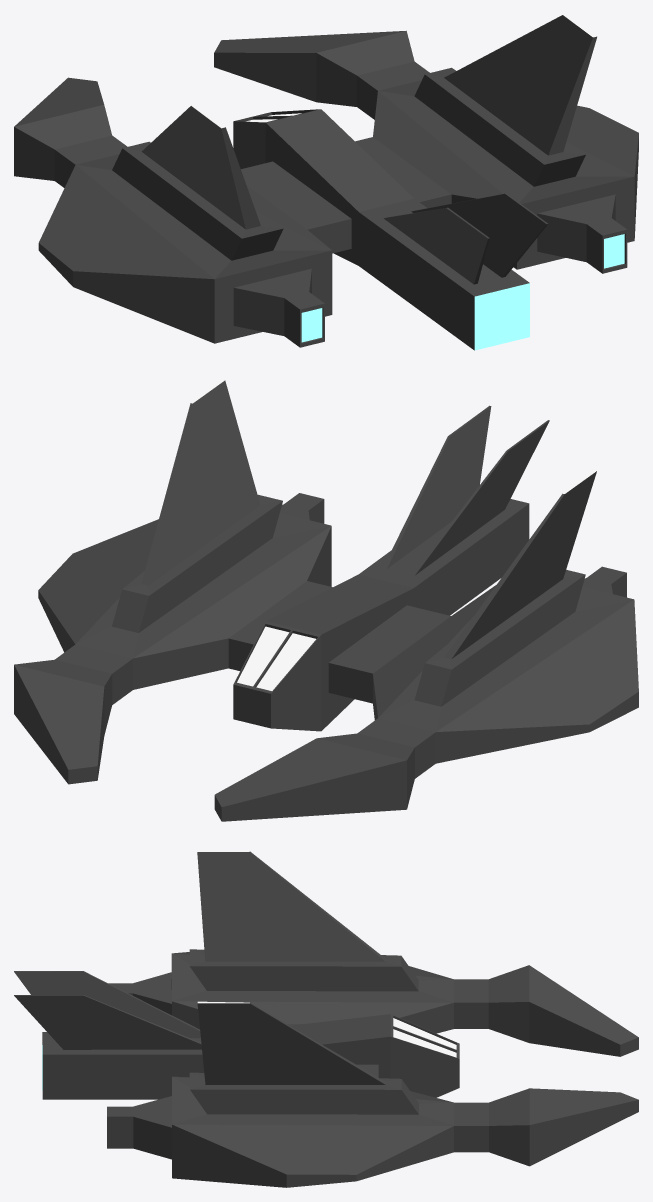
Rendered from radical_spaceship_2-1dd24561.glb.
3 views of the same model, one above another, from view 1: azimuth 30°, elevation 25°; view 2: azimuth 150°, elevation 25°; view 3: azimuth 270°, elevation 25° (orthographic). The views are drawn at different scales.
Parts seen in each view (by area): view 1: body, mainThrust, thrust; view 2: body, windows; view 3: body, windows.
Boxes of the visible parts, bbox=[...] form: body: bbox=[14, 15, 638, 350]; mainThrust: bbox=[474, 283, 529, 350]; thrust: bbox=[301, 234, 624, 342]; body: bbox=[14, 380, 638, 821]; windows: bbox=[237, 626, 315, 690]; body: bbox=[14, 851, 638, 1187]; windows: bbox=[393, 1018, 456, 1057].
Size of the model in its own units: 20.37 by 7.39 by 23.32.
